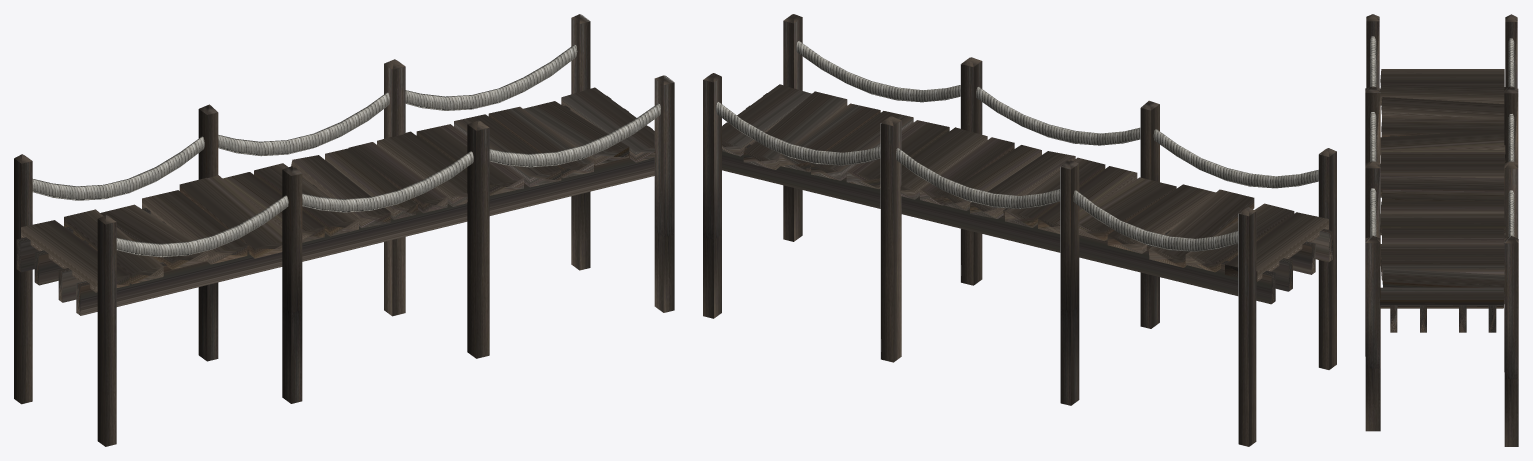
Rendered from Ponte con corde.dae.
3 views of the same model, side by side, from view 1: azimuth 30°, elevation 25°; view 2: azimuth 150°, elevation 25°; view 3: azimuth 270°, elevation 25° (orthographic). The views are drawn at different scales.
Parts seen in each view (by area): view 1: prim1, prim2, prim0; view 2: prim1, prim0, prim2; view 3: prim1, prim2, prim0.
Part boxes in pixels (<box>): prim1: <box>16,87,655,315</box>; prim2: <box>97,75,674,446</box>; prim0: <box>14,14,590,404</box>; prim1: <box>722,84,1332,304</box>; prim0: <box>703,73,1256,446</box>; prim2: <box>783,14,1336,369</box>; prim1: <box>1380,69,1505,332</box>; prim2: <box>1365,14,1380,431</box>; prim0: <box>1504,14,1518,446</box>.
Bounding box in the file's own units: 18.99 × 5.16 × 7.76.
2 materials, 2 textured.
